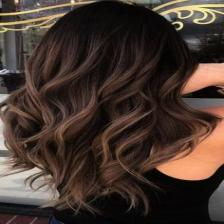brown: (15, 88, 188, 204)
